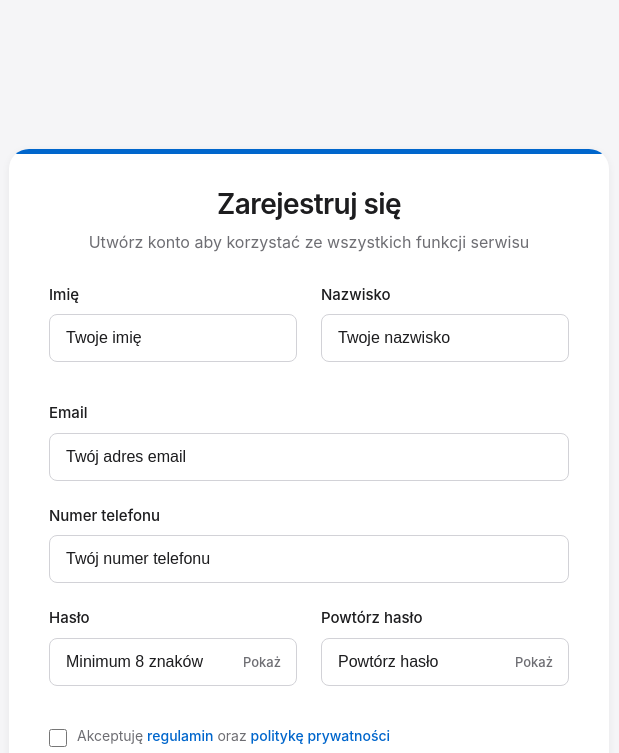
<RegisterPage /> › shows terms error if terms not checked
This screenshot has width=619, height=753.
Step 1. Type "A" into the field labelled "Imię" → (173,338), box [49, 314, 297, 362]
Step 2. Type "B" into the field labelled "Nazwisko" → (445,338), box [321, 314, 569, 362]
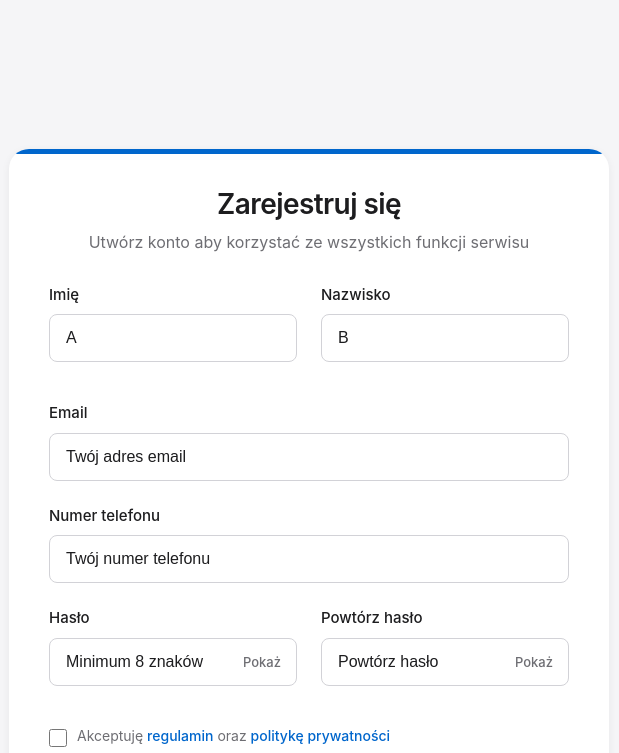
Step 3. Type "a@b.com" into the field labelled "Email" → (309,457), box [49, 433, 569, 481]
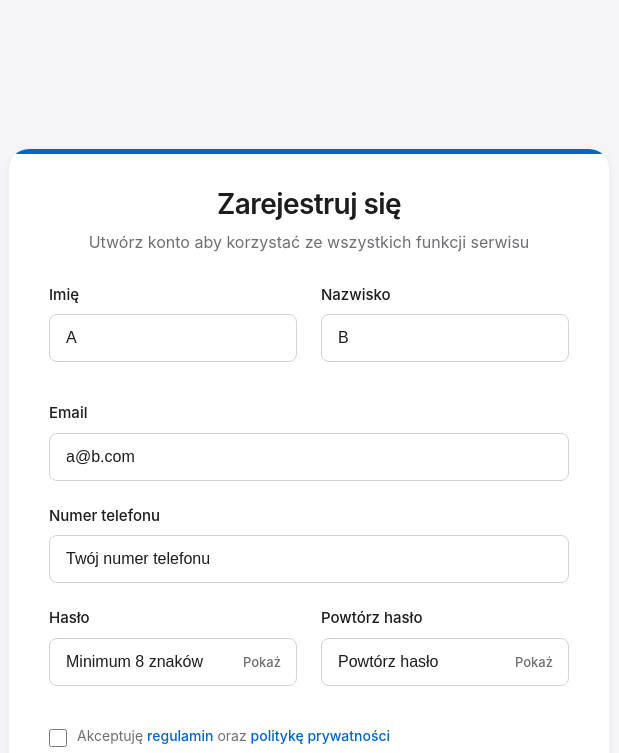
Step 4. Type "123456789" into the field labelled "Numer telefonu" → (309,559), box [49, 535, 569, 583]
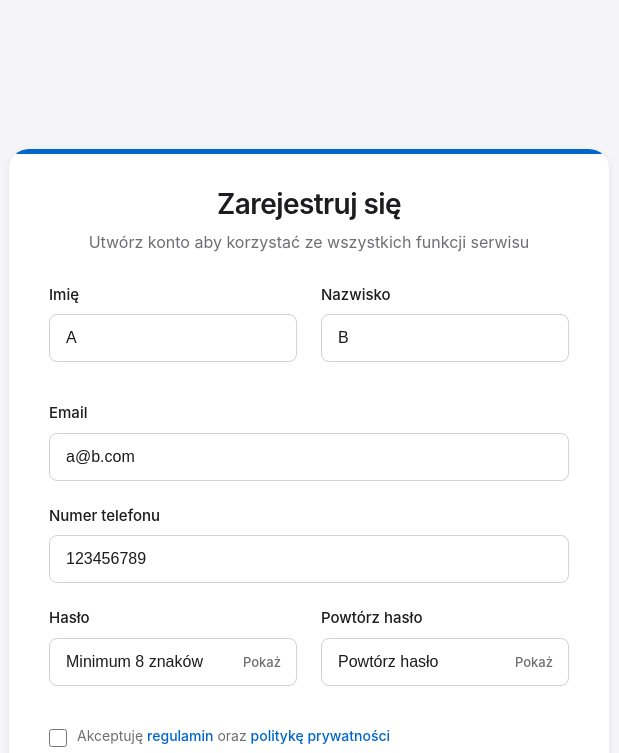
Step 5. Type "pass1234" into the password field labelled "Hasło" → (173,662), box [49, 638, 297, 686]
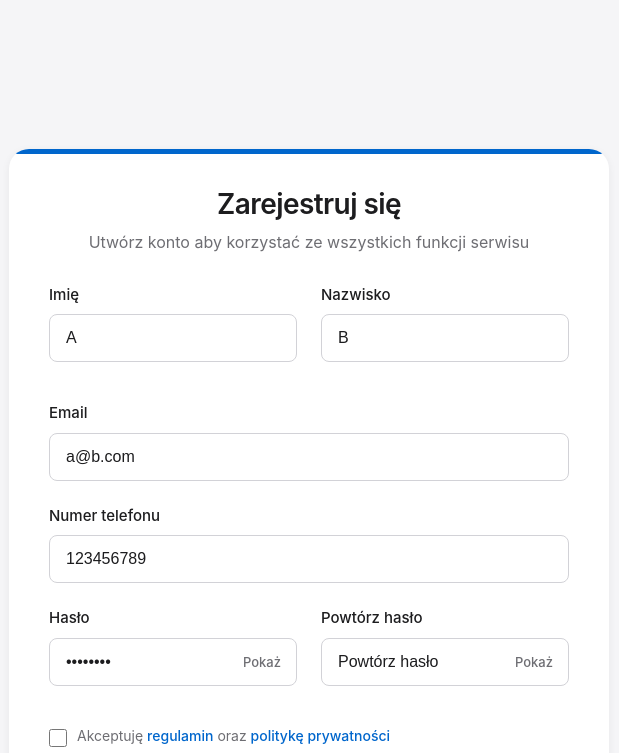
Step 6. Type "pass1234" into the password field labelled "Powtórz hasło" → (445,662), box [321, 638, 569, 686]
(page scrolled)
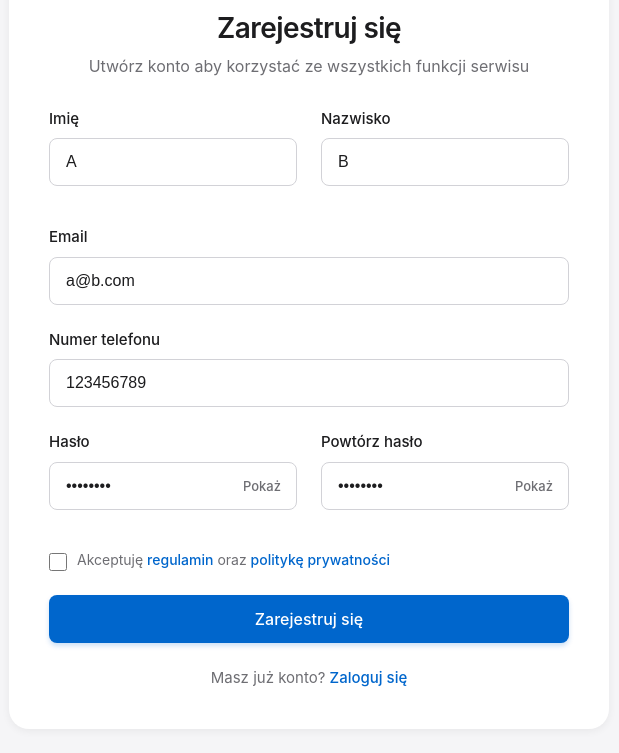
Step 7. Click the button "Zarejestruj się" → (309,619), box [49, 595, 569, 643]
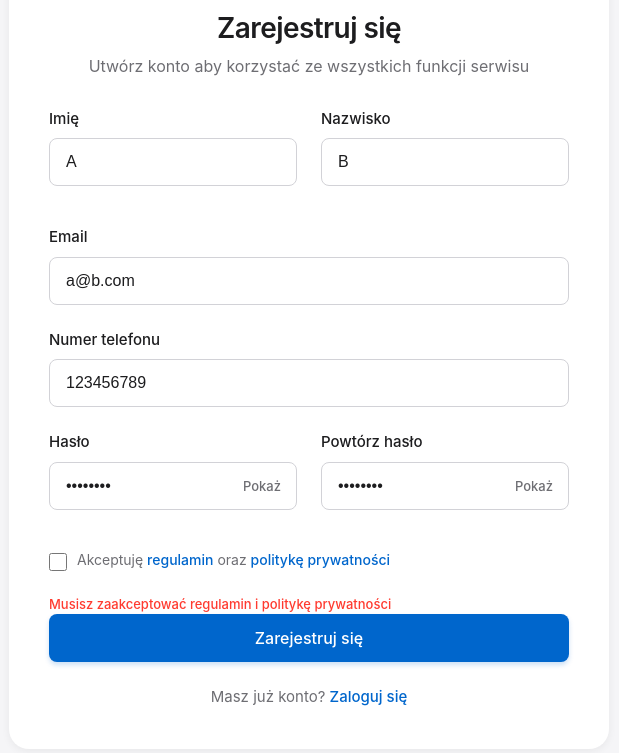
Result: the text "Musisz zaakceptować regulamin i politykę prywatności" is shown at [49, 596, 391, 612]
